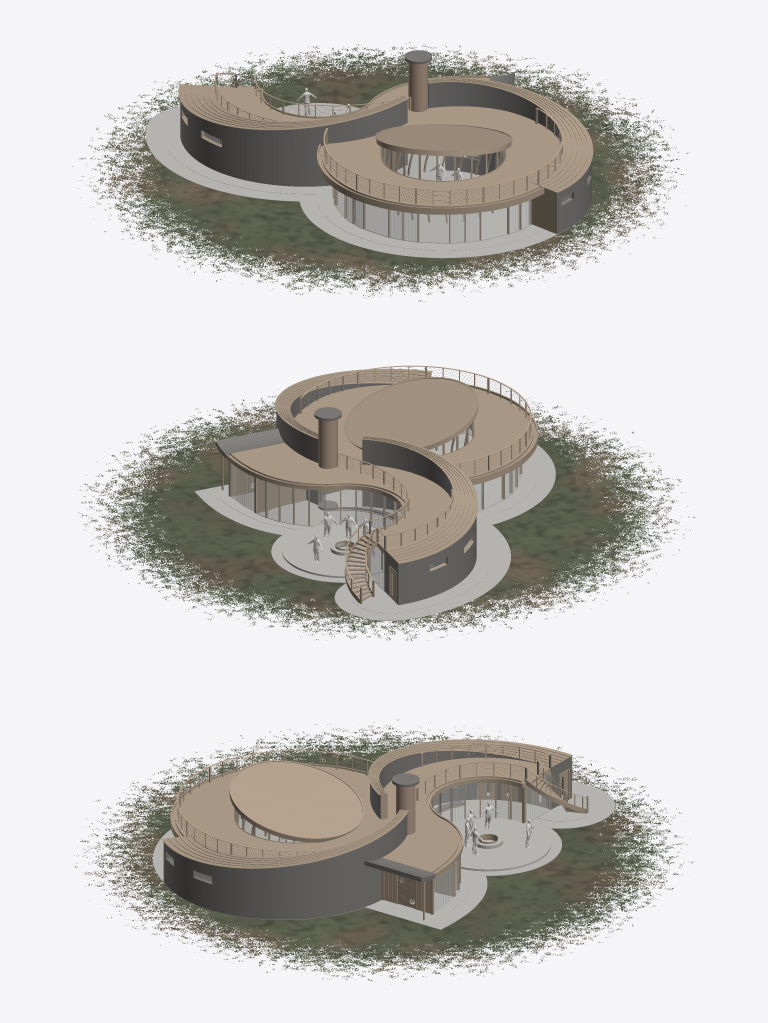
Rendered from kodolu-maja.glb.
The picture shows the model from 3 angles, top to bottom: view 1: azimuth 30°, elevation 25°; view 2: azimuth 150°, elevation 25°; view 3: azimuth 270°, elevation 25°; orthographic projection.
Visible parts, largest first — view 1: ground, timber, plinth, masonry, glass, chimney, glulam, metal; view 2: ground, timber, plinth, masonry, glass, glulam, chimney, figures, metal; view 3: ground, timber, masonry, plinth, glass, glulam, chimney, figures.
Part boxes in pixels (left/top/right/bottom): ground: left=72, top=42, right=689, bottom=301; timber: left=178, top=72, right=593, bottom=243; plinth: left=145, top=103, right=588, bottom=258; masonry: left=180, top=50, right=591, bottom=233; glass: left=184, top=115, right=588, bottom=242; chimney: left=381, top=62, right=505, bottom=223; glulam: left=227, top=97, right=563, bottom=205; metal: left=324, top=111, right=561, bottom=203; ground: left=78, top=389, right=695, bottom=641; timber: left=221, top=368, right=538, bottom=603; plinth: left=194, top=428, right=555, bottom=620; masonry: left=215, top=383, right=476, bottom=604; glass: left=230, top=420, right=521, bottom=589; glulam: left=232, top=365, right=531, bottom=527; chimney: left=318, top=419, right=473, bottom=468; figures: left=307, top=512, right=375, bottom=562; metal: left=302, top=367, right=530, bottom=475; ground: left=73, top=719, right=694, bottom=984; timber: left=162, top=739, right=588, bottom=920; masonry: left=163, top=751, right=571, bottom=919; plinth: left=152, top=781, right=615, bottom=929; glass: left=168, top=773, right=550, bottom=912; glulam: left=177, top=745, right=486, bottom=913; chimney: left=234, top=786, right=415, bottom=836; figures: left=268, top=802, right=533, bottom=855.
Size of the model in its own units: 45.9 by 6.54 by 45.9.
Materials: 9 (1 with a texture image).
